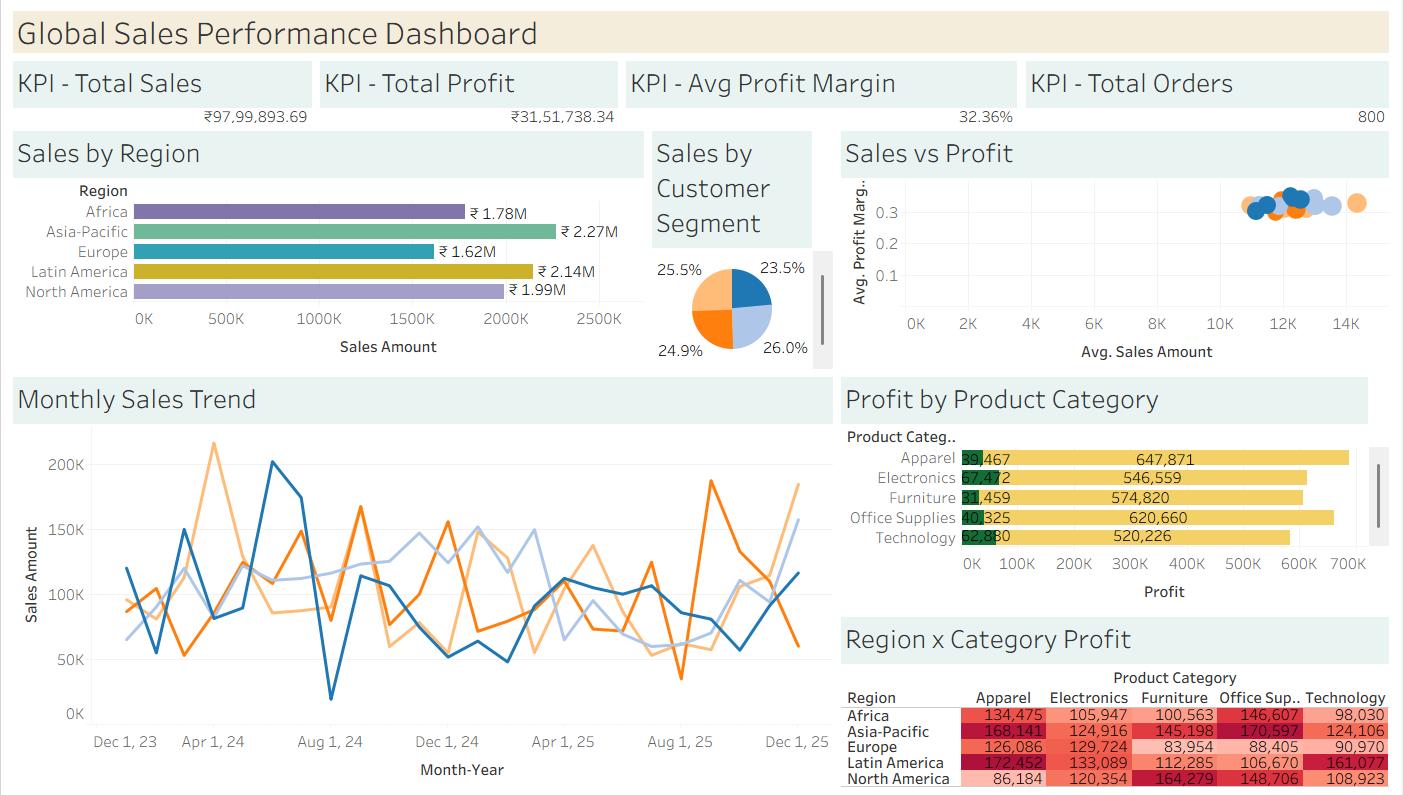

The dashboard page shown, as its layout file describes it:
{"tool":"tableau","page":{"name":"Global Sales Performance Dashboard","canvas":[1400,800],"ordinal":0},"visuals":[{"type":"title","box":[8,8,1384,50]},{"type":"worksheet","title":"KPI - Total Sales","mark":"Automatic","box":[8,58,306.6,70.2]},{"type":"worksheet","title":"KPI - Total Profit","mark":"Automatic","box":[314.6,58,306.6,70.2]},{"type":"worksheet","title":"KPI - Avg Profit Margin","mark":"Automatic","box":[621.2,58,399.5,70.2]},{"type":"worksheet","title":"KPI - Total Orders","mark":"Automatic","box":[1020.7,58,371.3,70.2]},{"type":"worksheet","title":"Sales by Region","mark":"Bar","rows":["Region"],"cols":["Sales Amount"],"box":[8,128.2,639,245.8]},{"type":"worksheet","title":"Sales by Customer Segment","mark":"Pie","box":[647,128.2,189,245.8]},{"type":"worksheet","title":"Sales vs Profit","mark":"Circle","rows":["Profit Margin %"],"cols":["Sales Amount"],"box":[836,128.2,556,245.8]},{"type":"worksheet","title":"Monthly Sales Trend","mark":"Line","rows":["Sales Amount"],"cols":["Month-Year"],"box":[8,374,828,418]},{"type":"worksheet","title":"Profit by Product Category","mark":"Bar","rows":["Product Category"],"cols":["Profit"],"box":[836,374,556,240]},{"type":"worksheet","title":"Region x Category Profit","mark":"Square","rows":["Region"],"cols":["Product Category"],"box":[836,614,556,178]}]}

Visuals, with their boxes in screenshot pixels (x1, y1, x2, y2), scaled from the page's 1400x800 canvas onto the 1403x795 screenshot:
title: {"left": 8, "top": 8, "right": 1395, "bottom": 58}
"KPI - Total Sales" worksheet: {"left": 8, "top": 58, "right": 315, "bottom": 127}
"KPI - Total Profit" worksheet: {"left": 315, "top": 58, "right": 623, "bottom": 127}
"KPI - Avg Profit Margin" worksheet: {"left": 623, "top": 58, "right": 1023, "bottom": 127}
"KPI - Total Orders" worksheet: {"left": 1023, "top": 58, "right": 1395, "bottom": 127}
"Sales by Region" worksheet (Bar marks): {"left": 8, "top": 127, "right": 648, "bottom": 372}
"Sales by Customer Segment" worksheet (Pie marks): {"left": 648, "top": 127, "right": 838, "bottom": 372}
"Sales vs Profit" worksheet (Circle marks): {"left": 838, "top": 127, "right": 1395, "bottom": 372}
"Monthly Sales Trend" worksheet (Line marks): {"left": 8, "top": 372, "right": 838, "bottom": 787}
"Profit by Product Category" worksheet (Bar marks): {"left": 838, "top": 372, "right": 1395, "bottom": 610}
"Region x Category Profit" worksheet (Square marks): {"left": 838, "top": 610, "right": 1395, "bottom": 787}
